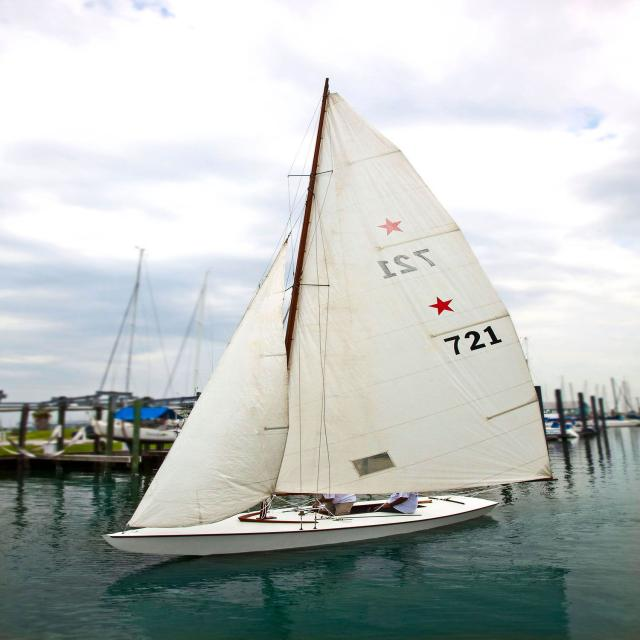boat: (94, 66, 565, 600)
